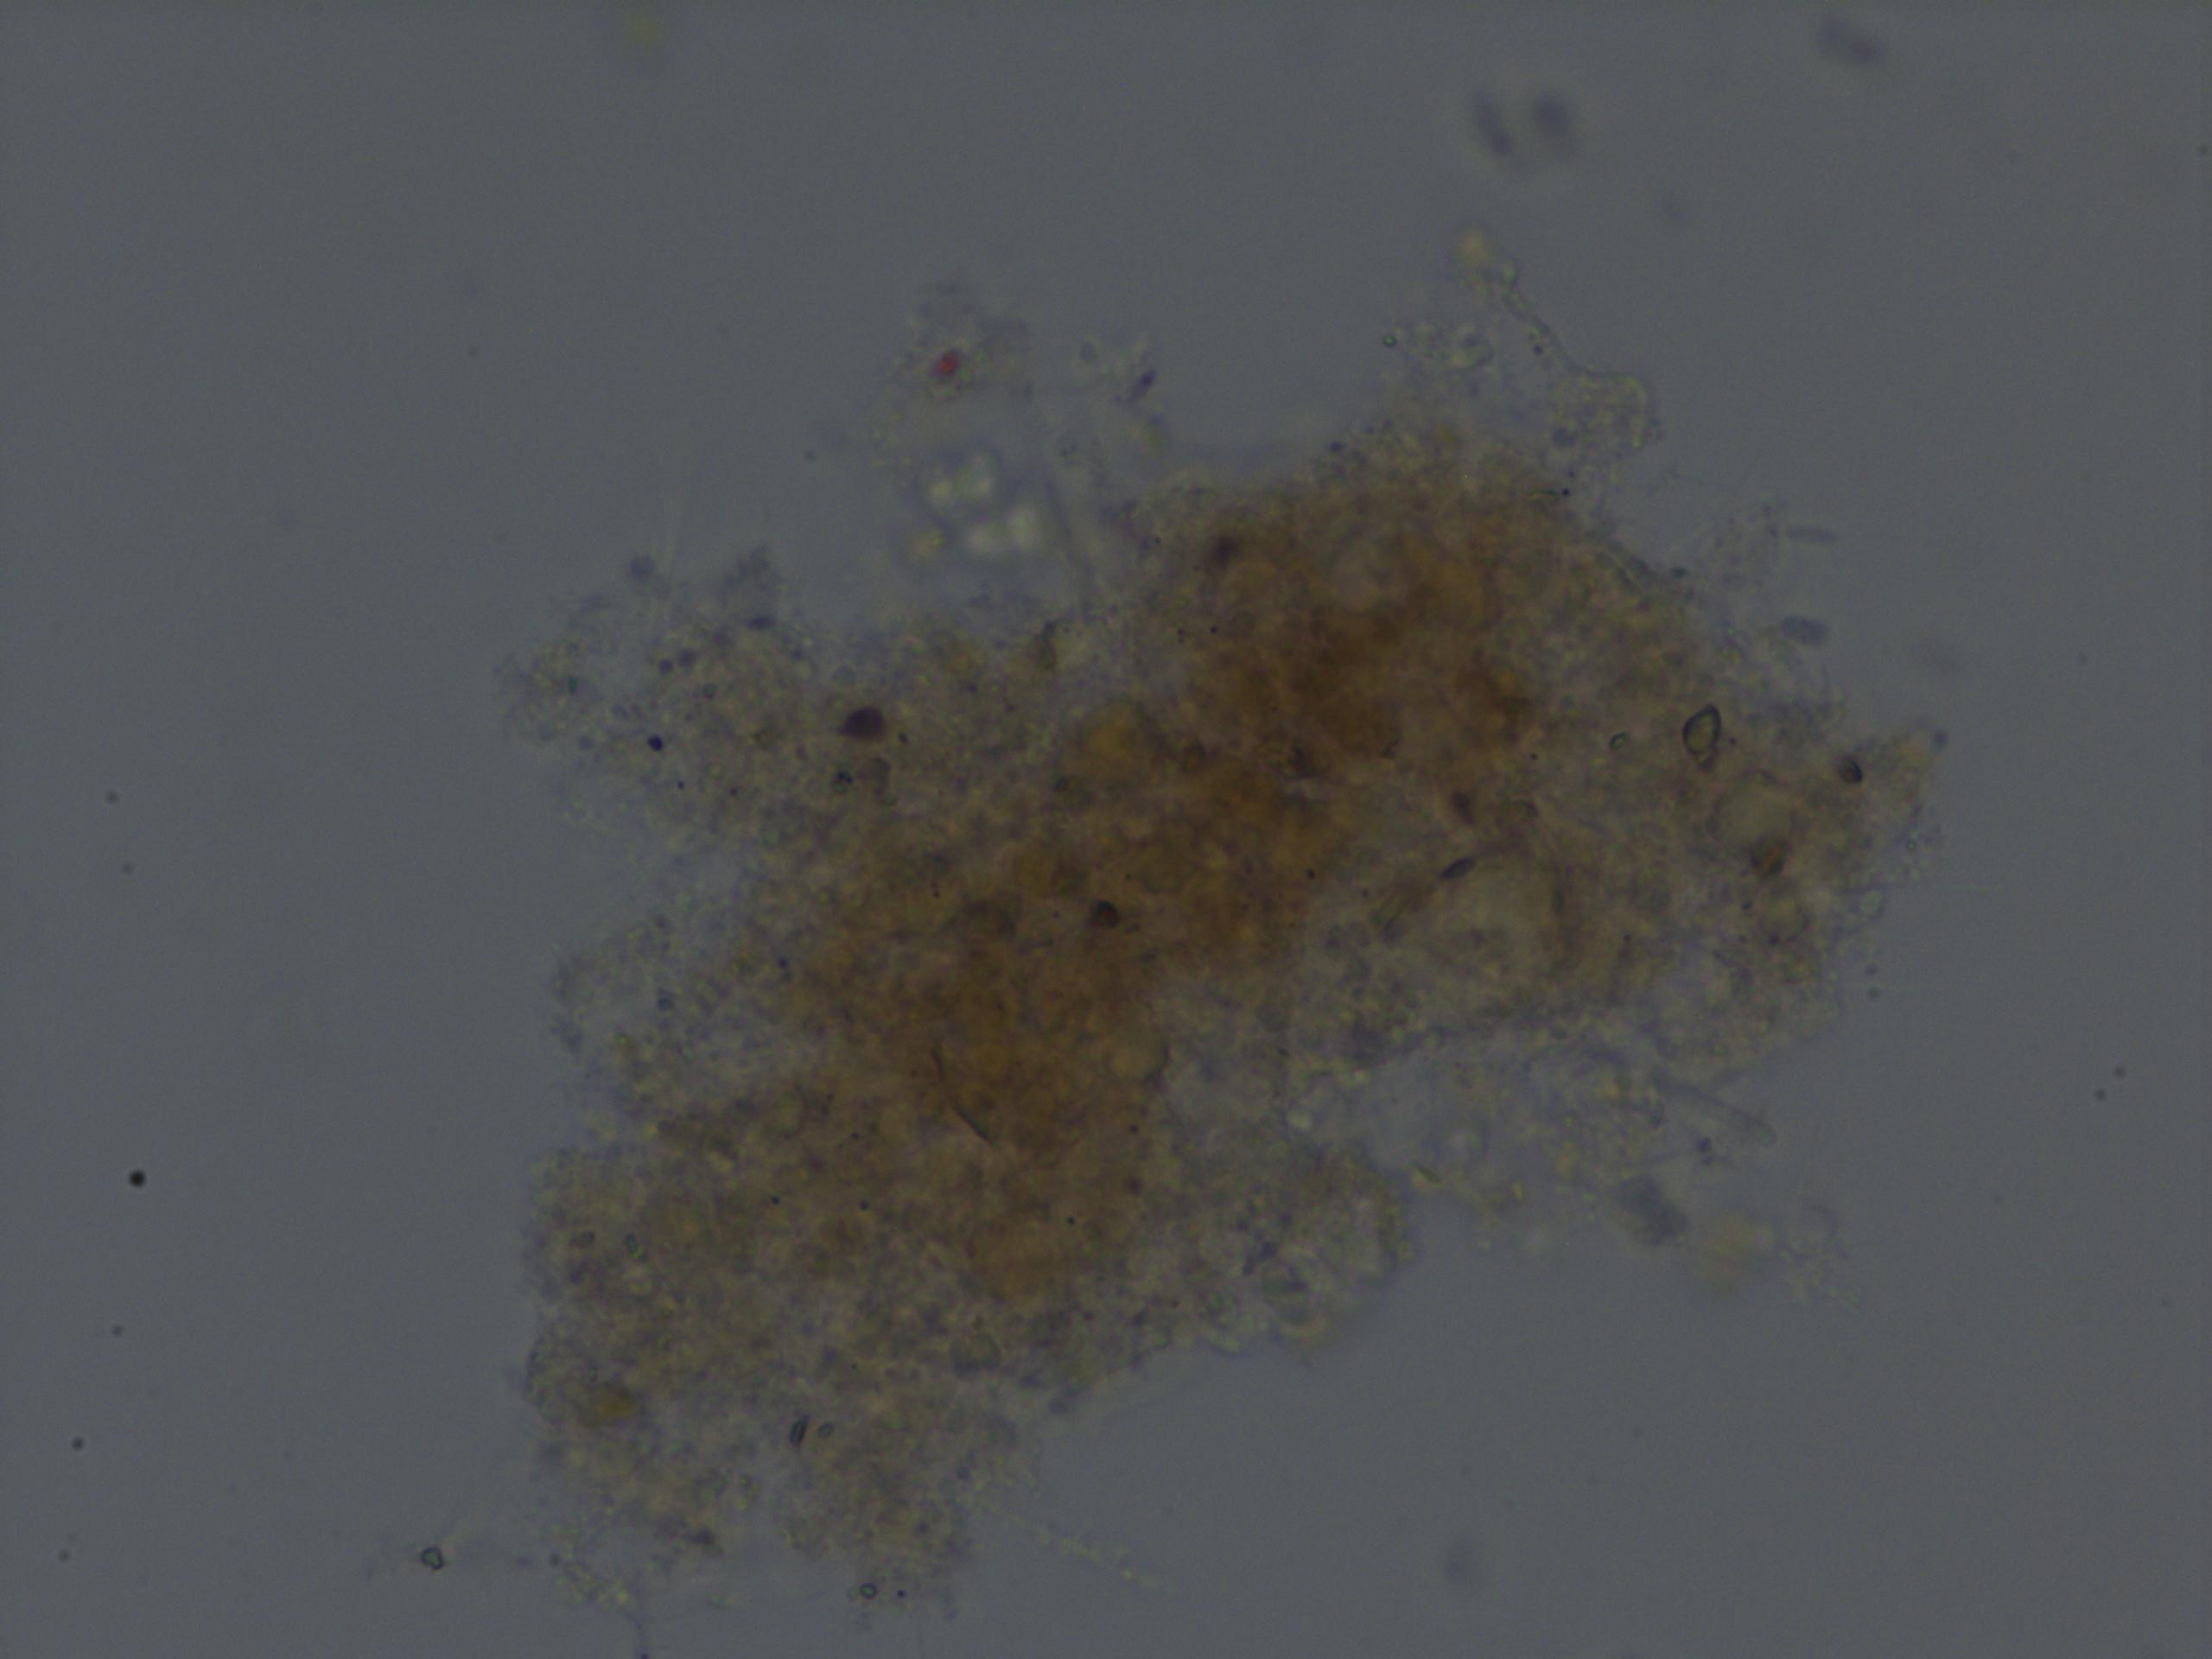spherical_floc: (486, 416, 1947, 1659)
